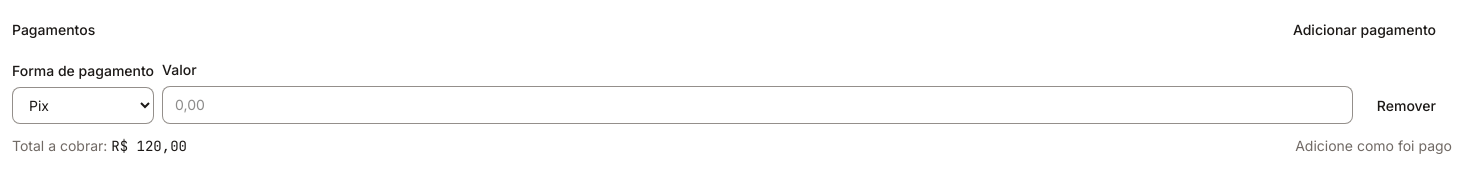
Test case: PagamentosField › mostra que a soma confere
Type "120.00" into the field labelled "Valor" at (758, 105), box x1=162 y1=86 x2=1353 y2=124
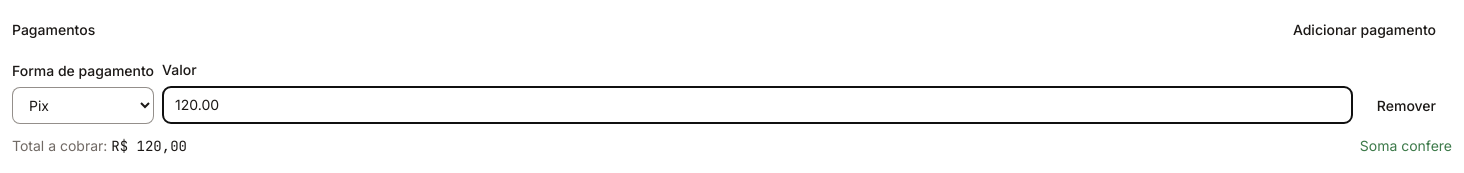
Result: the text "Soma confere" is shown at x1=1360 y1=136 x2=1452 y2=156
